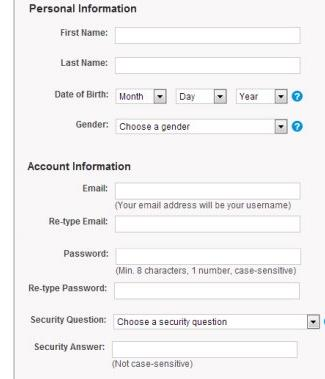field: (113, 25, 302, 46), (113, 214, 301, 235), (110, 181, 301, 201), (110, 340, 297, 360), (112, 56, 301, 75), (112, 281, 302, 299), (113, 246, 301, 264), (112, 313, 321, 329), (114, 118, 289, 135), (236, 86, 289, 106), (173, 87, 227, 106), (116, 86, 167, 106)
field_with_label: (49, 212, 303, 237), (29, 279, 304, 301), (59, 23, 304, 47), (34, 339, 300, 361), (61, 54, 302, 77), (33, 312, 324, 331), (83, 179, 304, 202), (63, 244, 303, 265), (76, 115, 291, 136), (54, 84, 169, 107)
